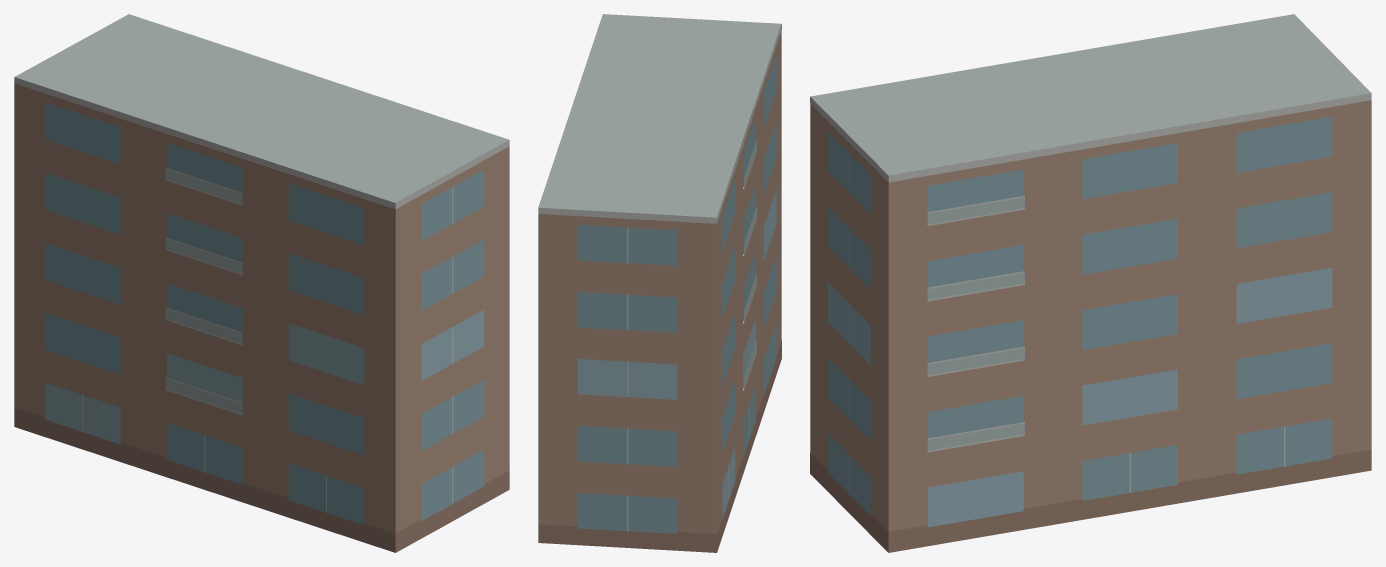
File: survey-upis-32936027.glb
The picture shows the model from 3 angles, left to right: view 1: azimuth 30°, elevation 25°; view 2: azimuth 150°, elevation 25°; view 3: azimuth 270°, elevation 25°; orthographic projection. The views are drawn at different scales.
Visible parts, largest first — view 1: survey-upis-32936027.tmp; view 2: survey-upis-32936027.tmp; view 3: survey-upis-32936027.tmp.
Part boxes in pixels (x1,y1,x2,y2): survey-upis-32936027.tmp: [14, 14, 509, 552]; survey-upis-32936027.tmp: [538, 14, 781, 552]; survey-upis-32936027.tmp: [810, 14, 1371, 552].
Bounding box in the file's own units: 12.28 × 13.35 × 18.02.
